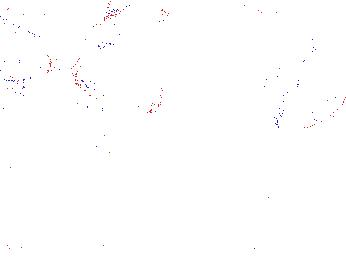moon jellyfish: (275, 28, 346, 133), (78, 4, 171, 78), (71, 45, 164, 114), (1, 19, 58, 78)
